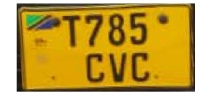T: (60, 14, 82, 50)
